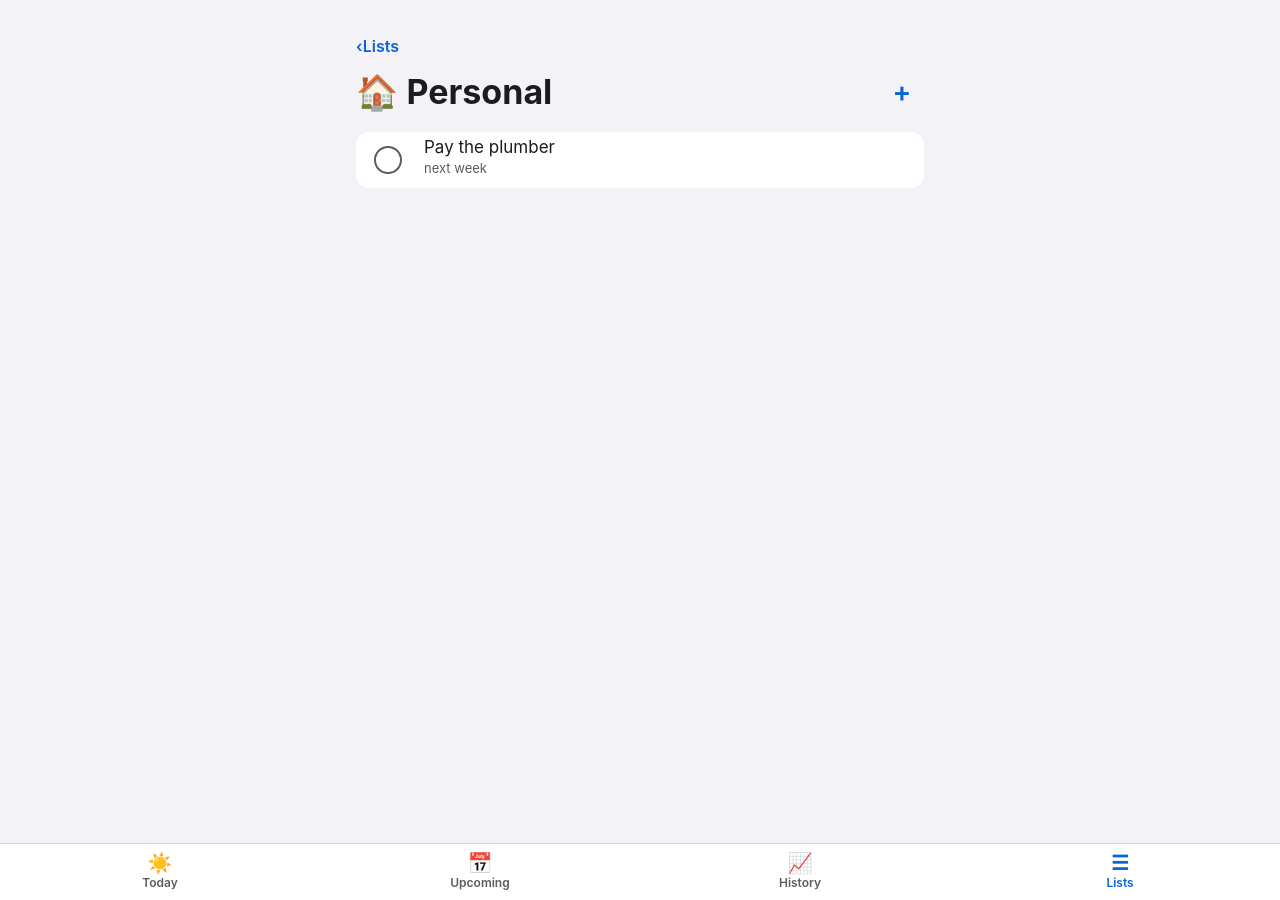
Test case: adding and editing notes › turns a vague date into a real one and clears the note
Click the button with aria-label "Edit Pay the plumber": (490, 147) [416,136,912,184]
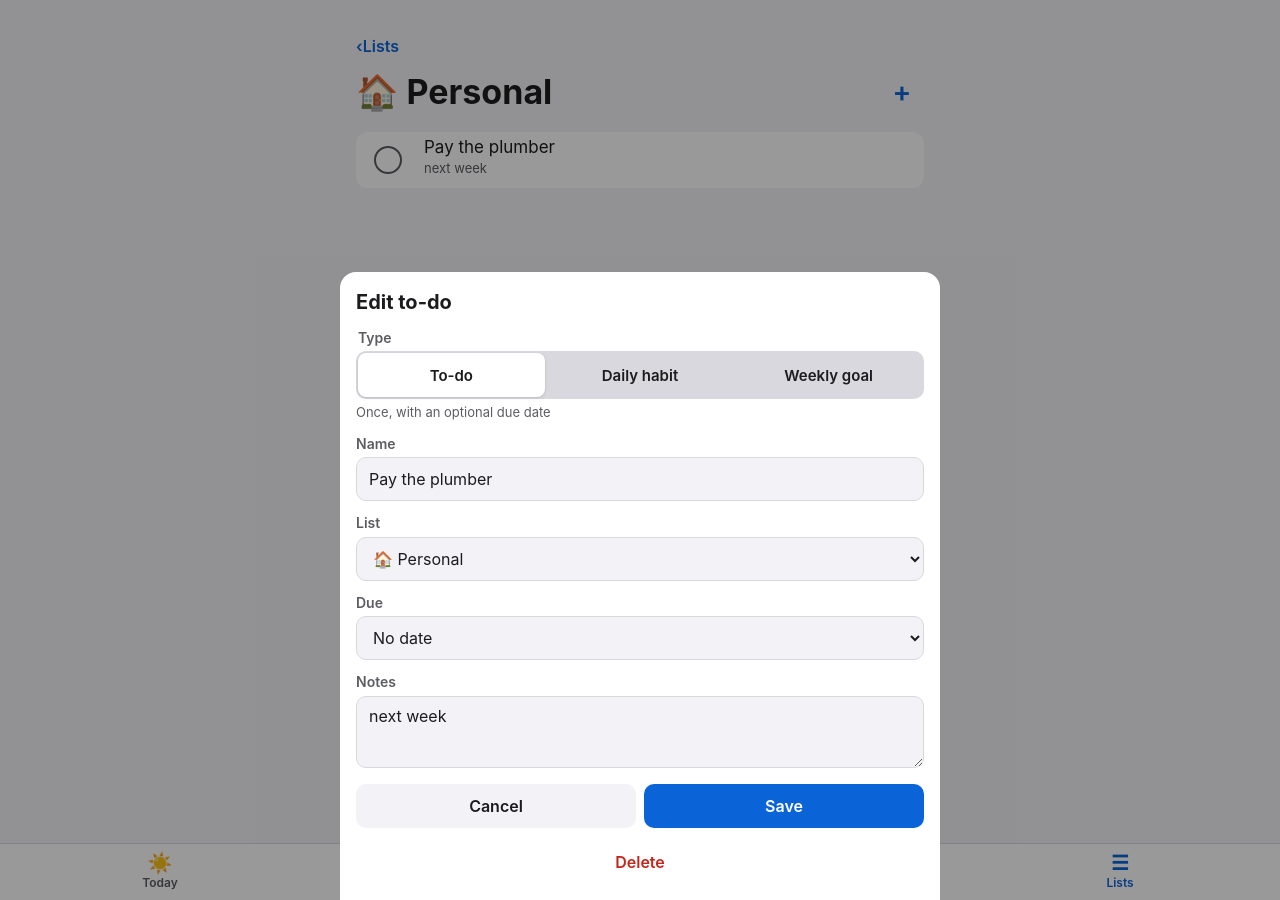
Check: the text box labelled "Notes" holds "next week", box [356,696,924,768]
Select "Pick a date" in the dropdown labelled "Due": (640, 638) [356,616,924,660]
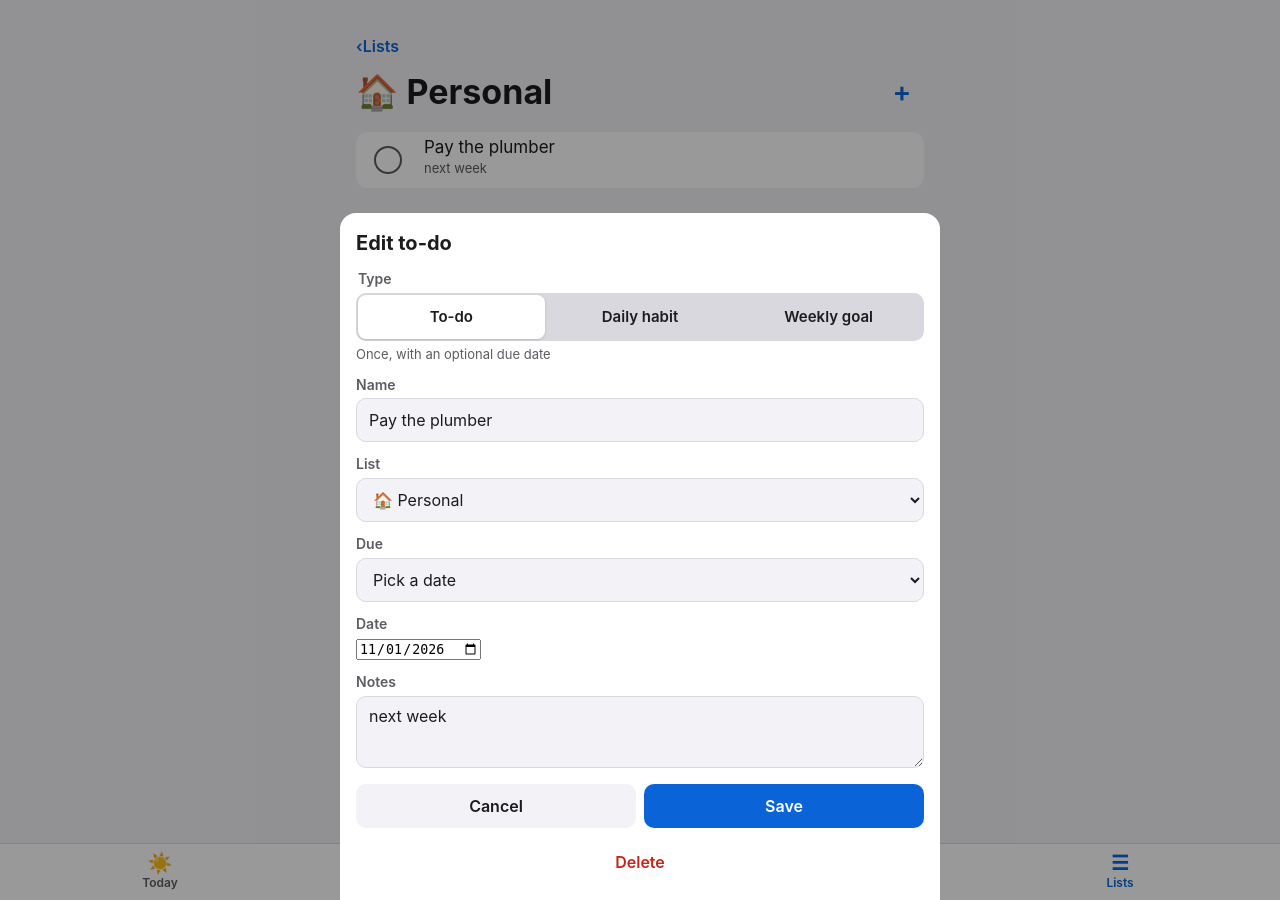
In the date field labelled "Date": (419, 650) [356,639,481,660], type "2026-11-04"
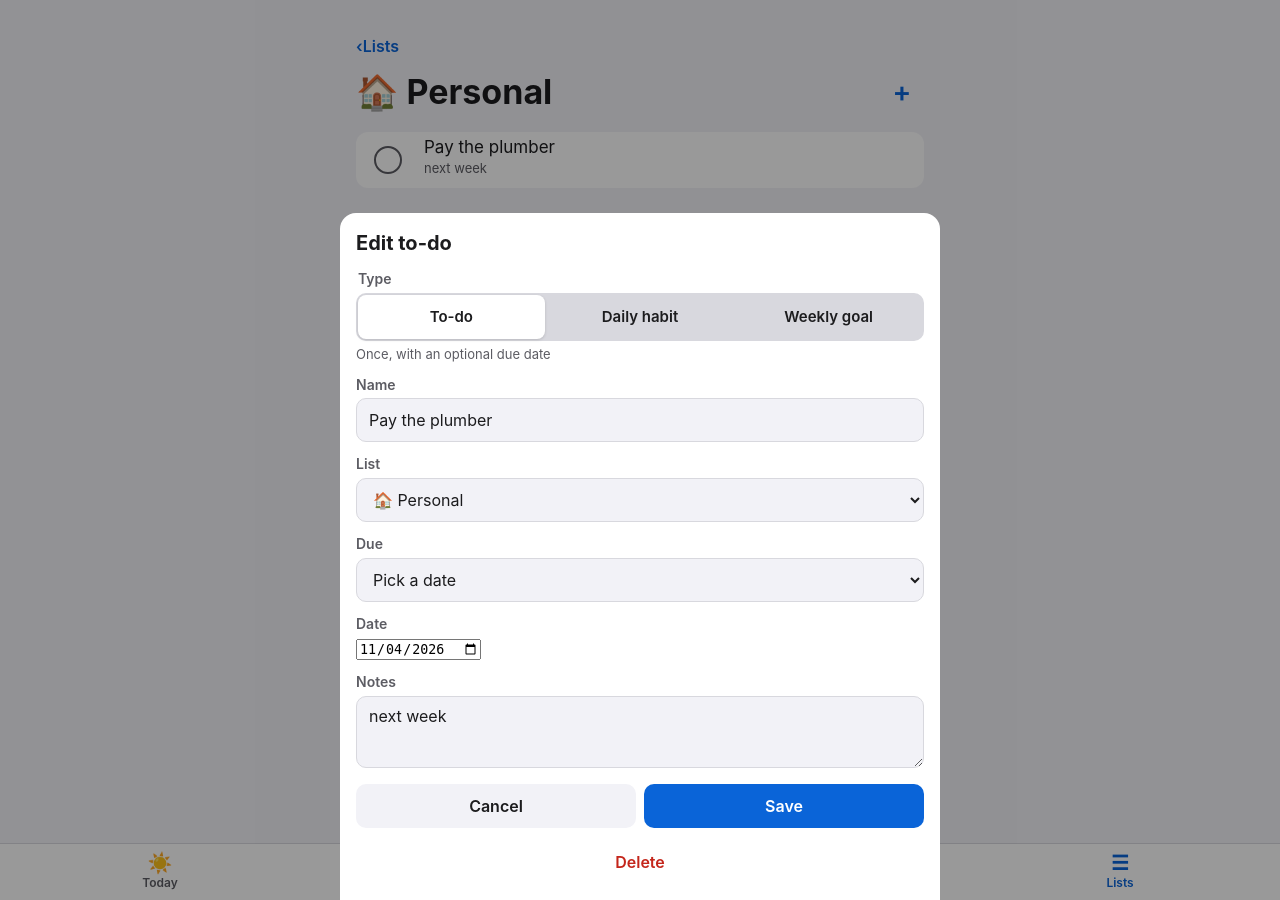
Clear the text box labelled "Notes": (640, 732) [356,696,924,768]
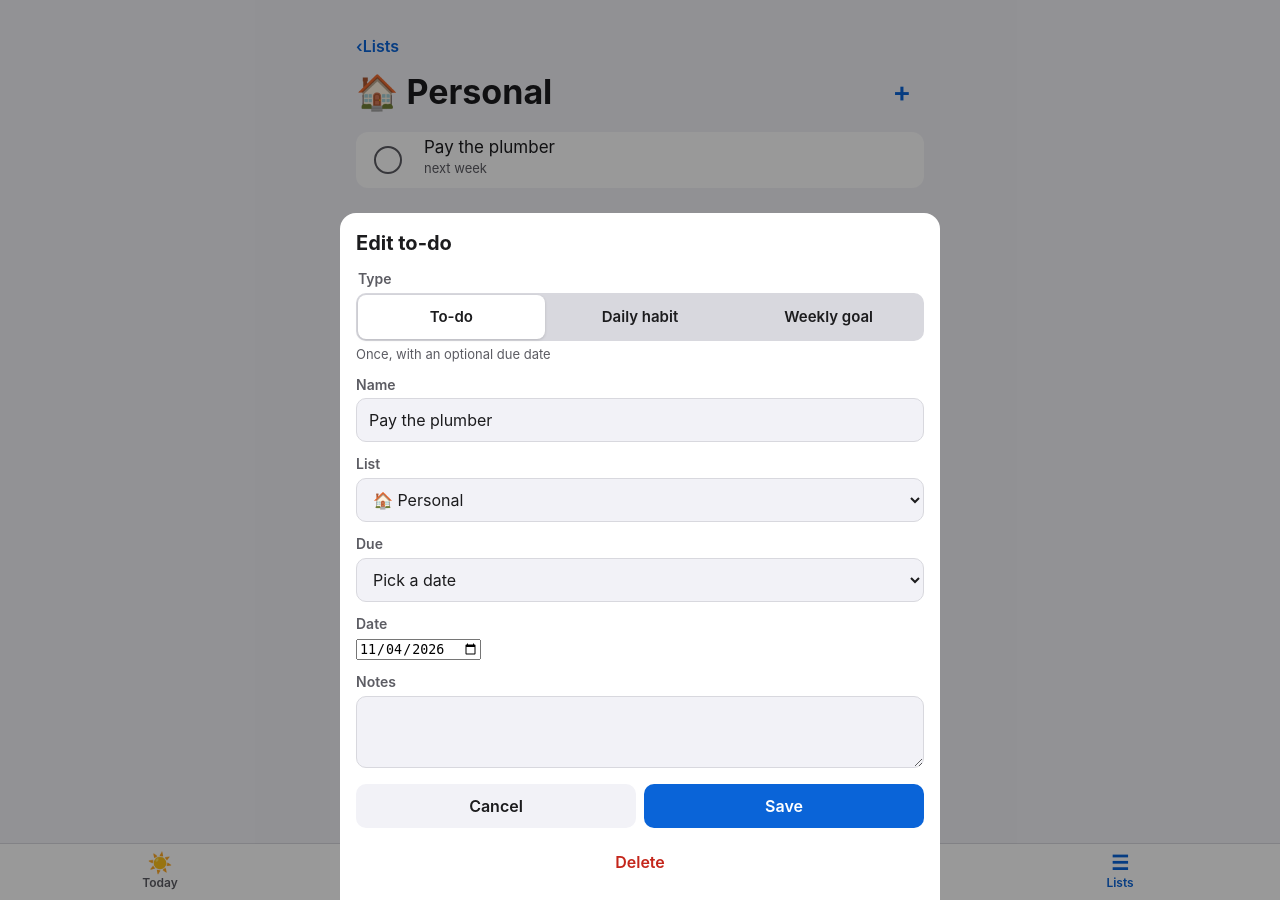
Click the button "Save": (784, 806) [644,784,924,828]
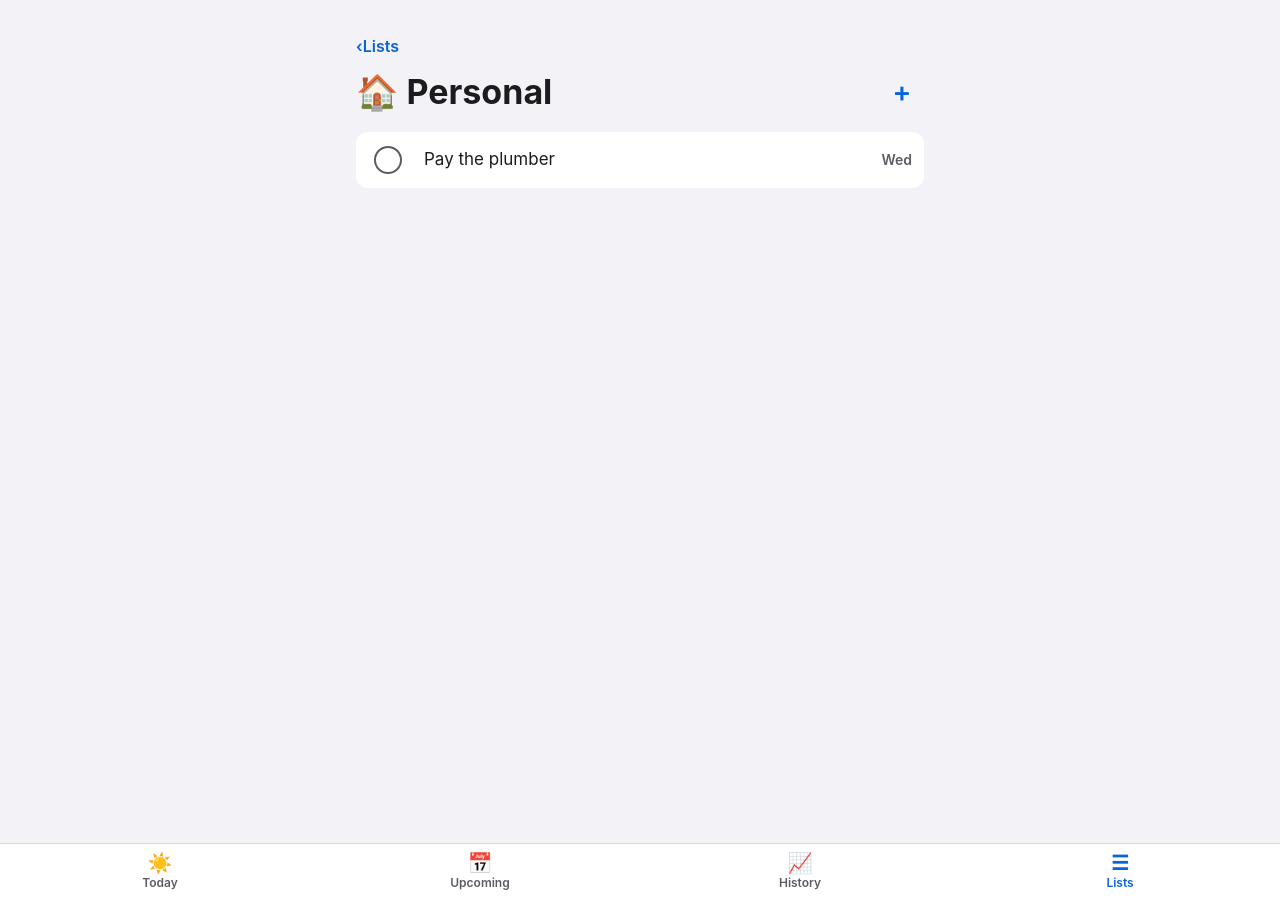
Check: the dialog is gone
